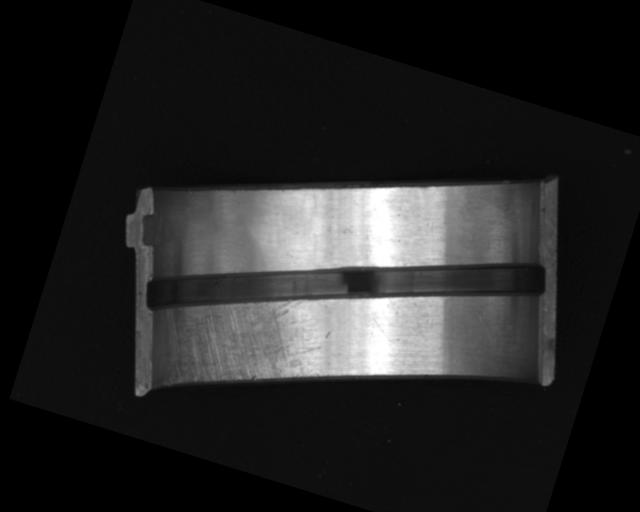gap: (140, 154, 552, 420)
scratch: (154, 263, 332, 422)
